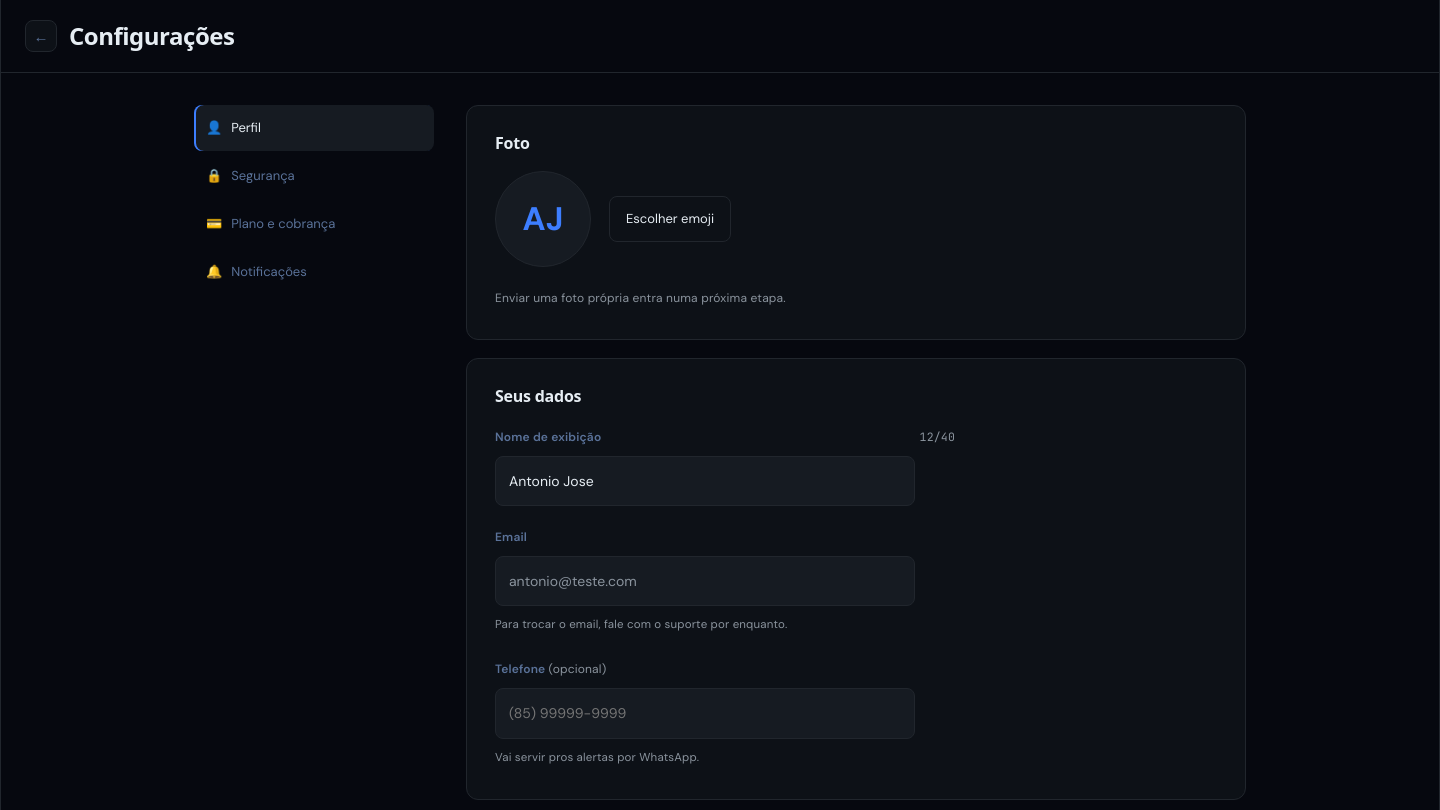
Test: Configurações — logado › as abas ainda não prontas dizem o que vem, em vez de nada
This screenshot has width=1440, height=810.
Click the button "🔒 Segurança". click: (314, 176)
box: left=194, top=153, right=434, bottom=199
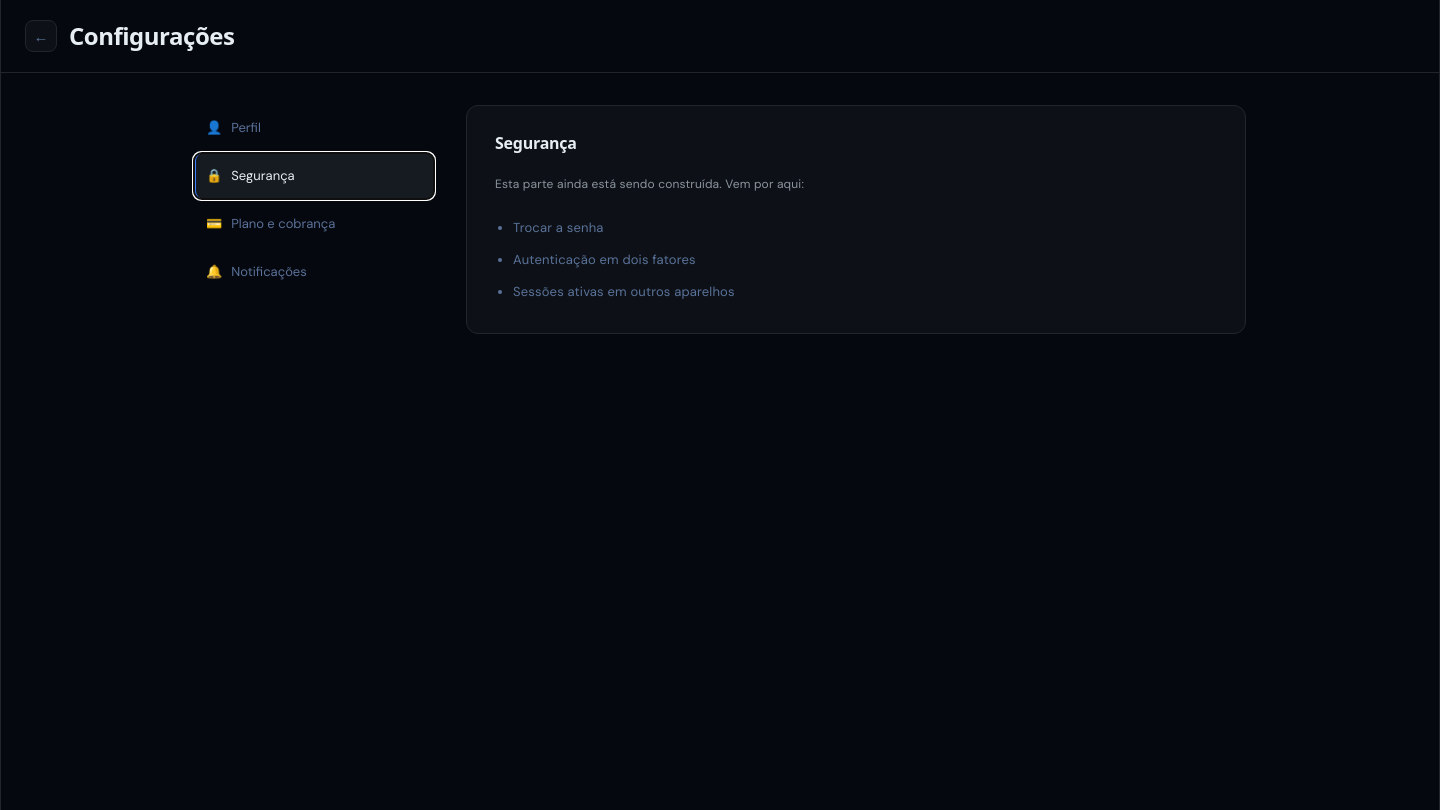
Result: the text "Esta parte ainda está sendo construída. Vem por aqui:" is shown at left=495, top=176, right=804, bottom=192
Result: the list item "Autenticação em dois fatores" is shown at left=513, top=251, right=696, bottom=268
